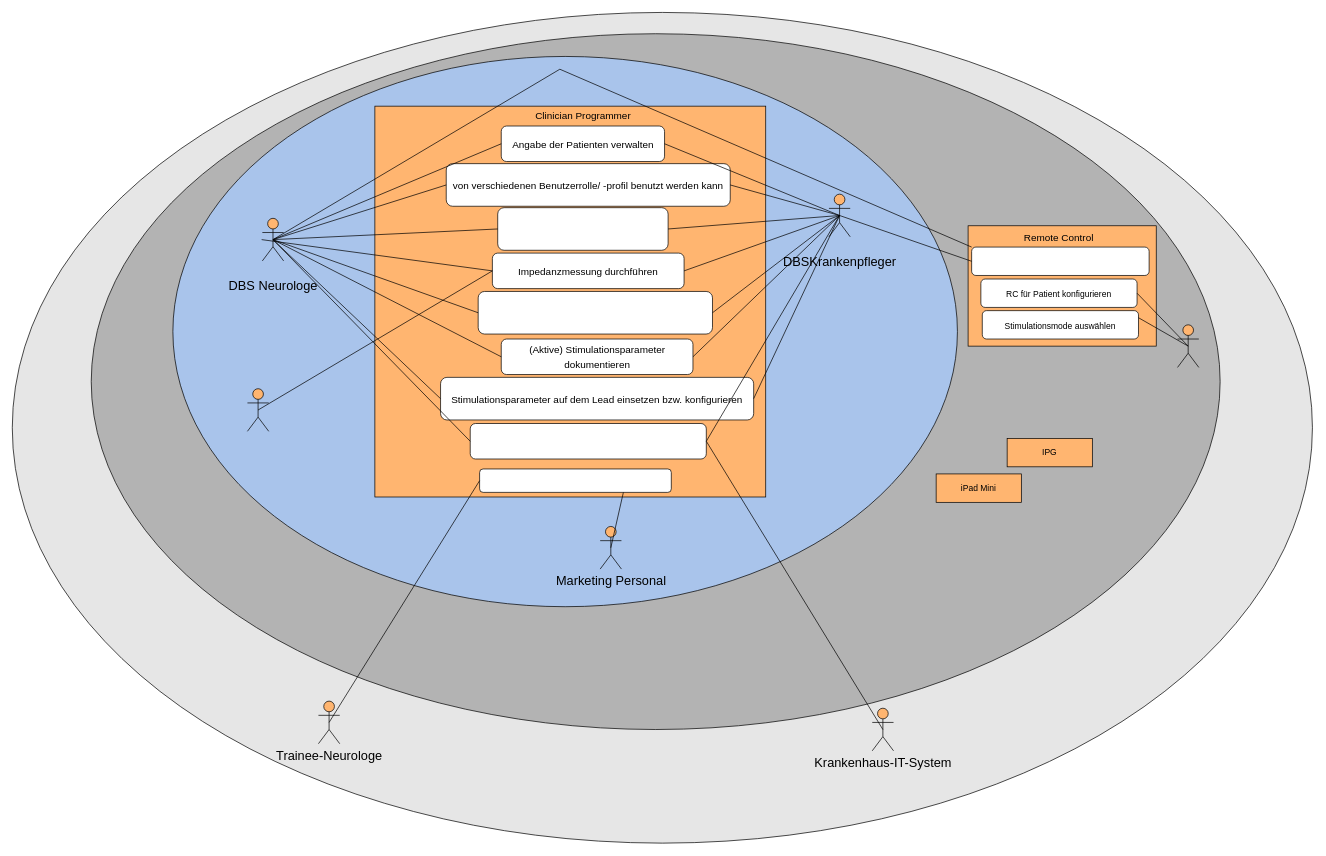
Image size: 1326x856. Some labels were removed from this diagram. Each missing label, with the centre of its shape:
Angabe zum Zustand des IPGs: point 582,228
Bericht zum Stimulationsparameter drucken: point 588,441
Demo Modus anbieten: point 575,480
Monopolar / Bipolar Survey durchführen: point 594,312
Neurochirurg: point 258,409
Patient: point 1188,345
Verbindung mit IPG über RC konfigurieren: point 1060,260
